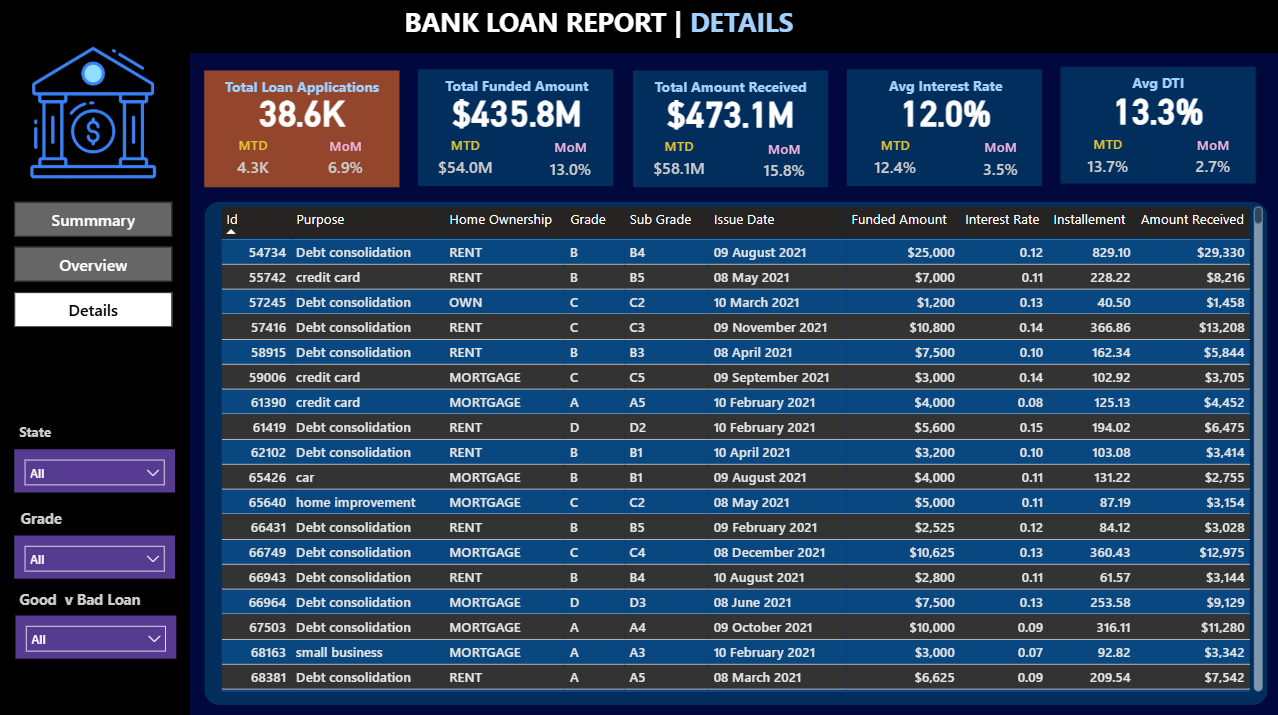

The dashboard page shown, as its layout file describes it:
{"tool":"powerbi","page":{"name":"Details ","canvas":[1280,720],"ordinal":2},"visuals":[{"type":"shape","box":[0,55.5,192,664.7],"z":0},{"type":"shape","box":[0,0,1280,55.5],"z":1000},{"type":"textbox","box":[401.7,0,474.1,55.5],"z":2000},{"type":"shape","box":[206.3,72.4,195.4,117],"z":3000},{"type":"card","fields":{"Values":["bank_loan_data.Total Loan Applications"]},"box":[206.3,74.8,195.4,76],"z":4000},{"type":"textbox","box":[206.3,73.6,195.4,38.6],"z":5000},{"type":"card","title":"MTD","fields":{"Values":["bank_loan_data.MTD Loan Applications"]},"box":[224.4,137.5,60.3,49.5],"z":6000},{"type":"shape","box":[420.5,71.2,195.4,117],"z":7000},{"type":"card","title":"MoM","fields":{"Values":["bank_loan_data.MoM Loan Application"]},"box":[317.3,138.7,60.3,48.3],"z":8000},{"type":"card","fields":{"Values":["bank_loan_data.TOTAL FUNDED AMOUNT"]},"box":[421,74.8,195.4,76],"z":9000},{"type":"textbox","box":[421,72.4,195.4,38.6],"z":10000},{"type":"card","title":"MTD","fields":{"Values":["bank_loan_data.MTD Funded Amount"]},"box":[433.1,137.5,70,49.5],"z":11000},{"type":"card","title":"MoM","fields":{"Values":["bank_loan_data.MoM Total Funded Amount"]},"box":[542.9,139.9,60.3,48.3],"z":12000},{"type":"shape","box":[634.6,72.5,195.4,117],"z":13000},{"type":"card","fields":{"Values":["bank_loan_data.TOTAL AMOUNT RECEIVED"]},"box":[634.7,76.1,195.4,76],"z":14000},{"type":"textbox","box":[634.7,73.7,195.4,38.6],"z":15000},{"type":"card","title":"MTD","fields":{"Values":["bank_loan_data.MTD Total Amount Received"]},"box":[646.8,138.8,70,49.5],"z":16000},{"type":"card","title":"MoM","fields":{"Values":["bank_loan_data.MoM Total Amount Received"]},"box":[756.5,141.3,60.3,48.3],"z":17000},{"type":"shape","box":[848.8,70.9,195.4,117],"z":18000},{"type":"card","fields":{"Values":["bank_loan_data.AVG Interest Rate"]},"box":[850.3,74.5,195.4,76],"z":19000},{"type":"textbox","box":[850.3,72.1,195.4,38.6],"z":20000},{"type":"card","title":"MTD","fields":{"Values":["bank_loan_data.MTD Avg Int Rate"]},"box":[862.3,137.3,70,49.5],"z":21000},{"type":"card","title":"MoM","fields":{"Values":["bank_loan_data.MoM AVG Int Rate"]},"box":[972.1,139.7,60.3,48.3],"z":22000},{"type":"shape","box":[1063,69.3,195.4,117],"z":23000},{"type":"card","fields":{"Values":["bank_loan_data.AVG DTI"]},"box":[1063,72.9,195.4,76],"z":24000},{"type":"textbox","box":[1063,70.5,195.4,38.6],"z":25000},{"type":"card","title":"MTD","fields":{"Values":["bank_loan_data.MTD DTI"]},"box":[1075,135.7,70,49.5],"z":26000},{"type":"card","title":"MoM","fields":{"Values":["bank_loan_data.MoM AVG DTI"]},"box":[1184.8,138.1,60.3,48.3],"z":27000},{"type":"shape","box":[206.7,203.3,1063.3,503.3],"z":28000},{"type":"slicer","fields":{"Values":["bank_loan_data.address_state"]},"box":[15.7,451.2,160.5,43.4],"z":29000},{"type":"textbox","box":[15.7,418.6,80.8,32.6],"z":30000},{"type":"slicer","fields":{"Values":["bank_loan_data.grade"]},"box":[15.7,538.1,160.5,43.4],"z":31000},{"type":"slicer","fields":{"Values":["bank_loan_data.Good Vs  Bad Loan"]},"box":[16.9,617.7,160.5,43.4],"z":32000},{"type":"textbox","box":[16.9,505.5,80.8,32.6],"z":33000},{"type":"textbox","box":[15.7,586.3,146,32.6],"z":34000},{"type":"tableEx","fields":{"Values":["bank_loan_data.id","bank_loan_data.purpose","bank_loan_data.home_ownership","bank_loan_data.grade","bank_loan_data.sub_grade","bank_loan_data.issue_date","bank_loan_data.Total Funded Amount","Sum(bank_loan_data.int_rate)","Sum(bank_loan_data.installment)","bank_loan_data.Total Amount Received"]},"box":[217.8,203.3,1052.2,494.4],"z":37000},{"type":"pageNavigator","box":[16.7,203.3,158.9,126.7],"z":37001},{"type":"image","box":[7.8,37.8,175.6,154.4],"z":37002}]}

Visuals, with their boxes in screenshot pixels (x1, y1, x2, y2), scaled from the page's 1280x720 canvas onto the 1278x715 screenshot:
shape: (0,55,192,714)
shape: (0,0,1277,55)
textbox: (401,0,874,55)
shape: (206,72,401,188)
card - bank_loan_data.Total Loan Applications: (206,74,401,150)
textbox: (206,73,401,111)
"MTD" card: (224,137,284,186)
shape: (420,71,615,187)
"MoM" card: (317,138,377,186)
card - bank_loan_data.TOTAL FUNDED AMOUNT: (420,74,615,150)
textbox: (420,72,615,110)
"MTD" card: (432,137,502,186)
"MoM" card: (542,139,602,187)
shape: (634,72,829,188)
card - bank_loan_data.TOTAL AMOUNT RECEIVED: (634,76,829,151)
textbox: (634,73,829,112)
"MTD" card: (646,138,716,187)
"MoM" card: (755,140,816,188)
shape: (847,70,1043,187)
card - bank_loan_data.AVG Interest Rate: (849,74,1044,149)
textbox: (849,72,1044,110)
"MTD" card: (861,136,931,186)
"MoM" card: (971,139,1031,187)
shape: (1061,69,1256,185)
card - bank_loan_data.AVG DTI: (1061,72,1256,148)
textbox: (1061,70,1256,108)
"MTD" card: (1073,135,1143,184)
"MoM" card: (1183,137,1243,185)
shape: (206,202,1268,702)
slicer - bank_loan_data.address_state: (16,448,176,491)
textbox: (16,416,96,448)
slicer - bank_loan_data.grade: (16,534,176,577)
slicer - bank_loan_data.Good Vs  Bad Loan: (17,613,177,657)
textbox: (17,502,98,534)
textbox: (16,582,161,615)
tableEx - bank_loan_data.id x bank_loan_data.purpose: (217,202,1268,693)
pageNavigator: (17,202,175,328)
image: (8,38,183,191)
